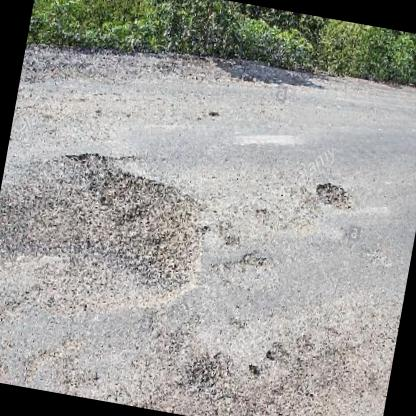pothole: (39, 143, 215, 310), (310, 174, 356, 214), (261, 338, 292, 363), (236, 248, 268, 268), (244, 361, 262, 378), (205, 106, 220, 119)
